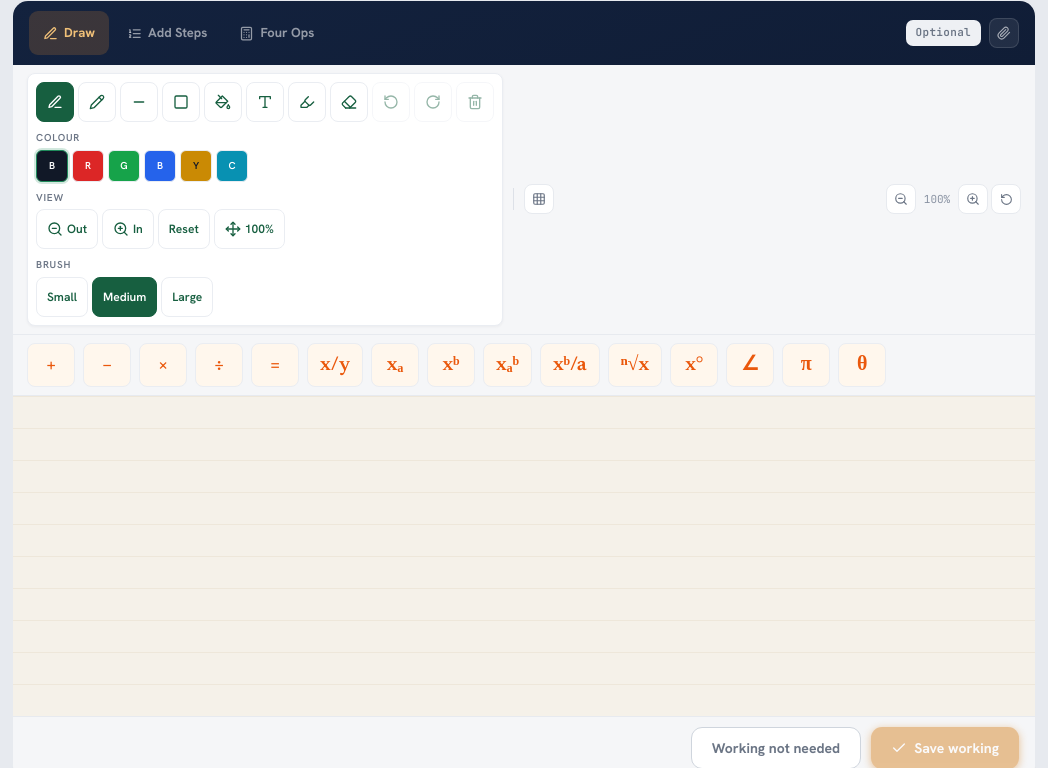
Test: WorkingCanvas › places a draggable text label with the Text tool
Click the button named "Text" at (265, 102), box [246,82,284,122]
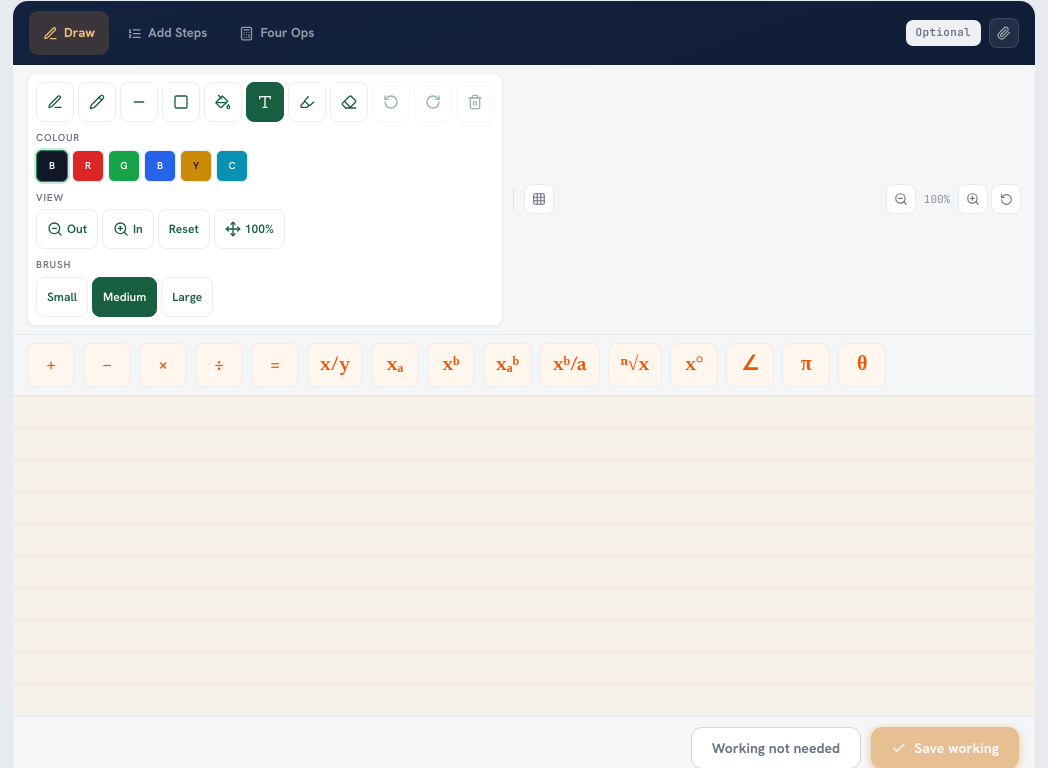
Press the mouse on the drawing named "Working canvas" at (524, 556), box [13,396,1035,716]
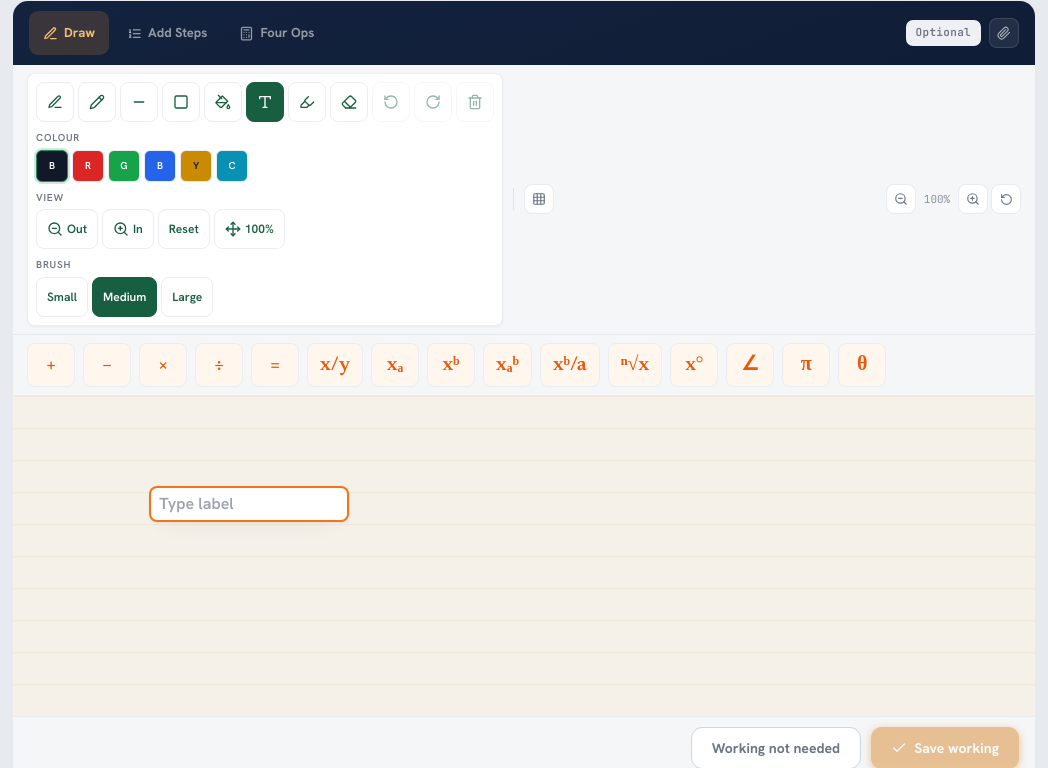
Type "= 12" into the field named "Text label input" at (249, 504), box [149,486,349,522]
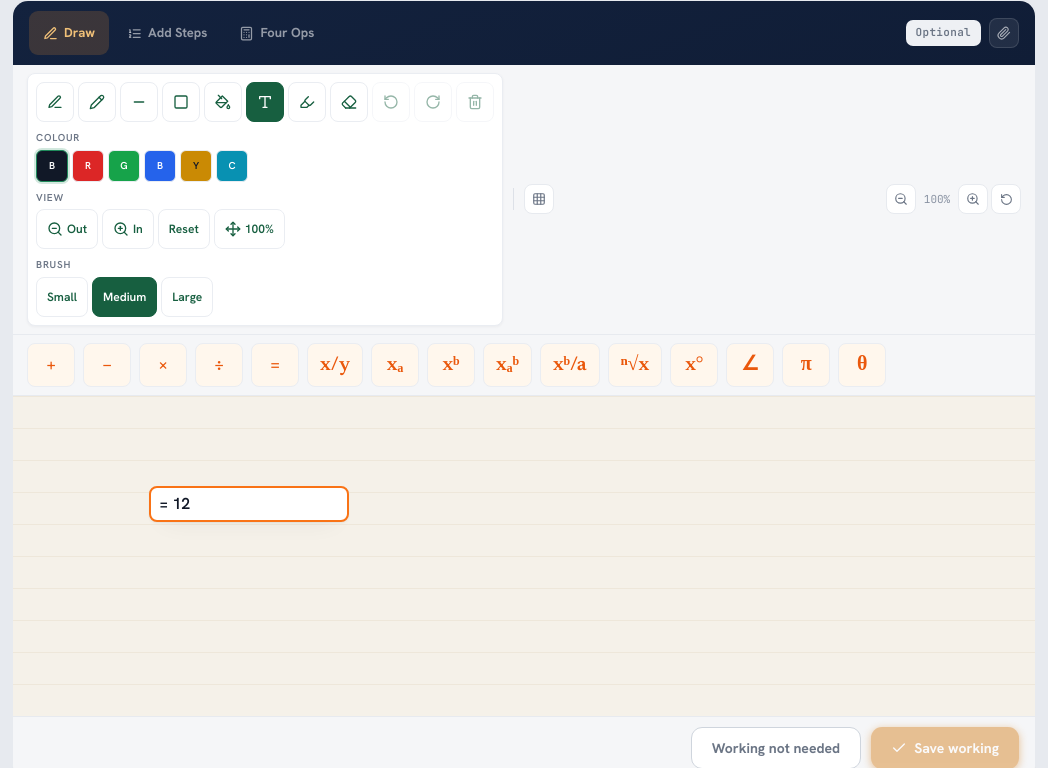
Press Enter in the field named "Text label input", box [149,486,349,522]
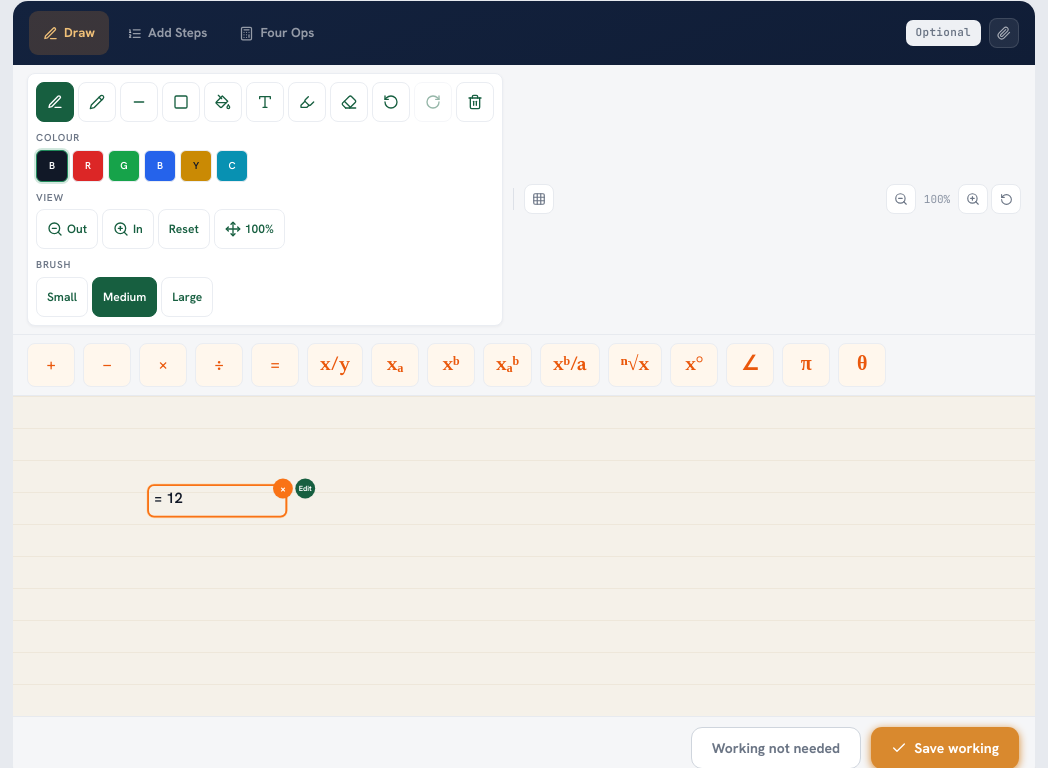
Expected: the button with test id "math-object-text" is shown, [149,486,286,515]
Expected: the text "= 12" is shown, [154,487,183,507]
